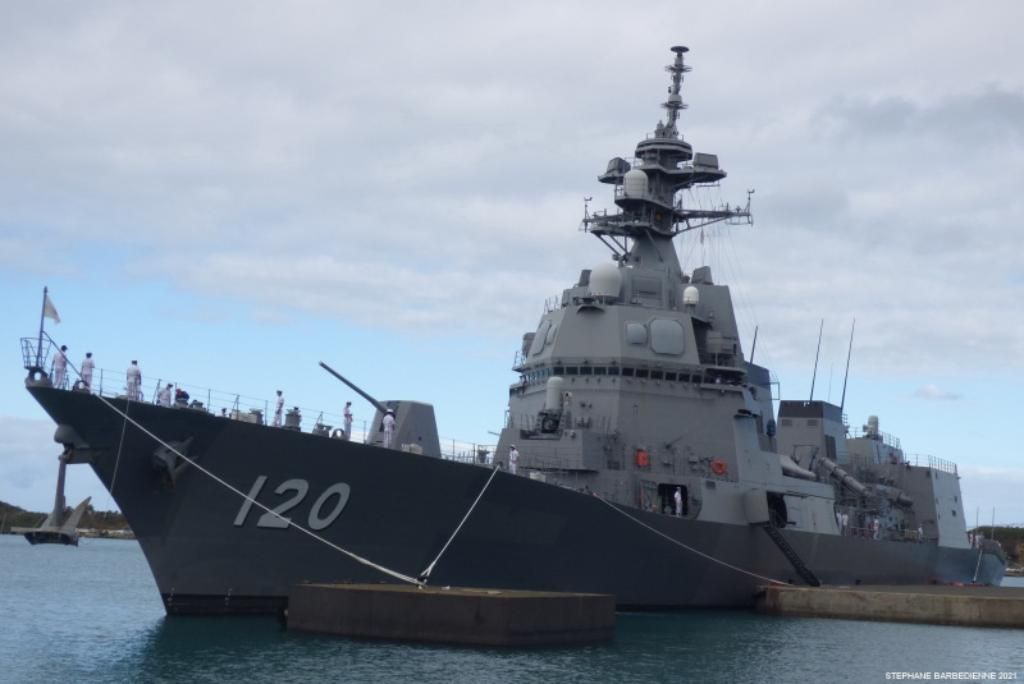Warship: (22, 37, 1006, 625)
